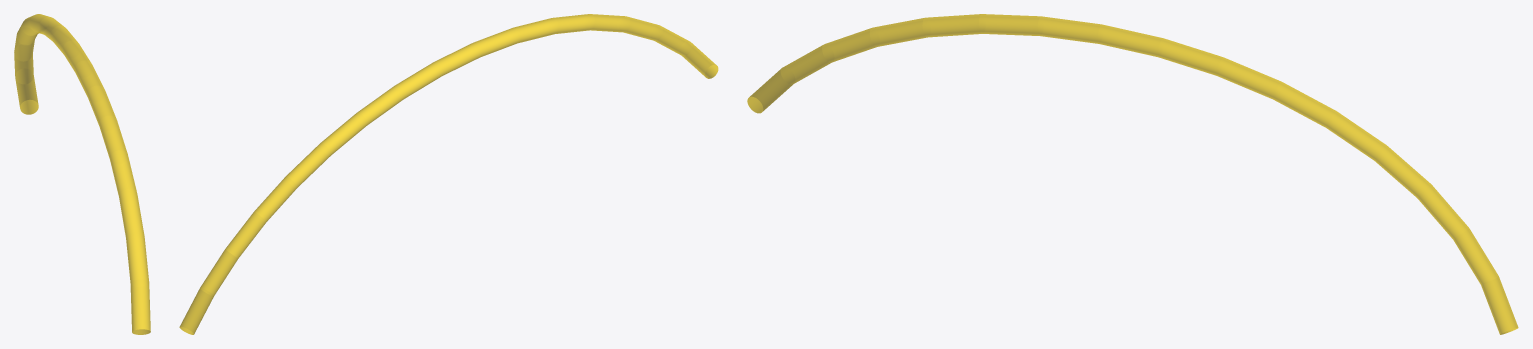
File: Event_84804159_track_75.fbx
3 renders of one model, left to right at view 1: azimuth 30°, elevation 25°; view 2: azimuth 150°, elevation 25°; view 3: azimuth 270°, elevation 25°, orthographic. The views are drawn at different scales.
Visible parts, largest first — view 1: Model; view 2: Model; view 3: Model.
Boxes of the visible parts, bbox=[...] form: Model: bbox=[14, 14, 150, 334]; Model: bbox=[179, 14, 718, 334]; Model: bbox=[747, 14, 1518, 334].
Bounding box in the file's own units: 0.636 × 0.5292 × 1.55.
